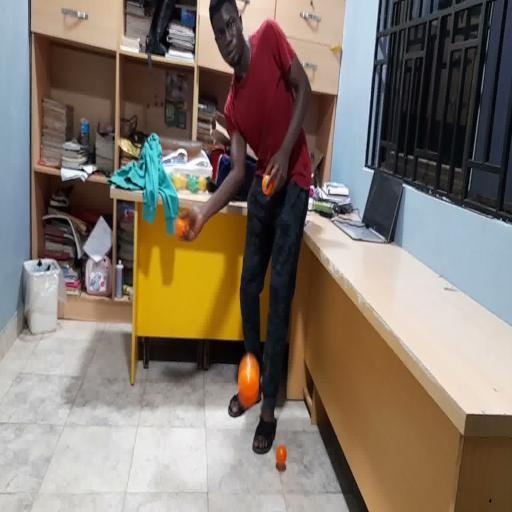plastic-ball: (237, 352, 261, 411)
